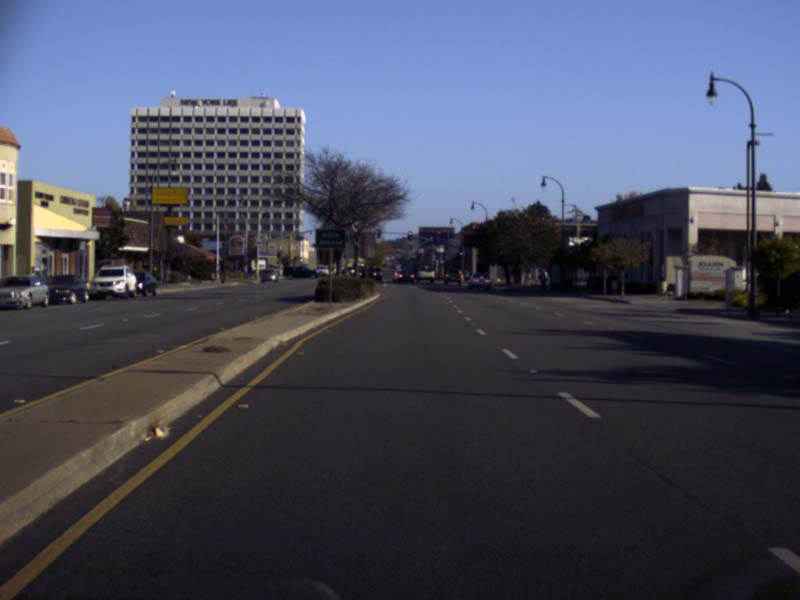Red: (407, 231, 412, 240), (458, 246, 462, 256)
